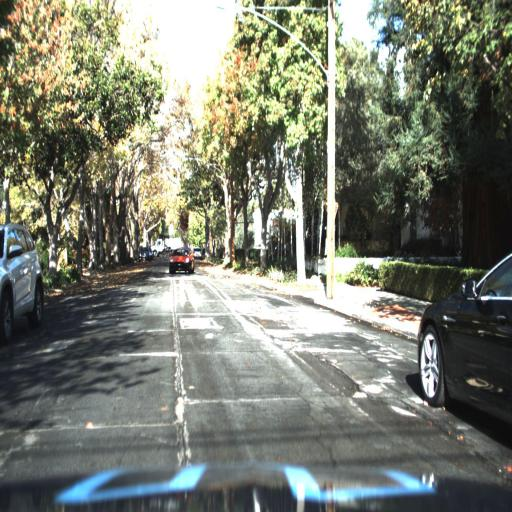car: (418, 239, 512, 439), (0, 222, 49, 335), (165, 247, 196, 278)
